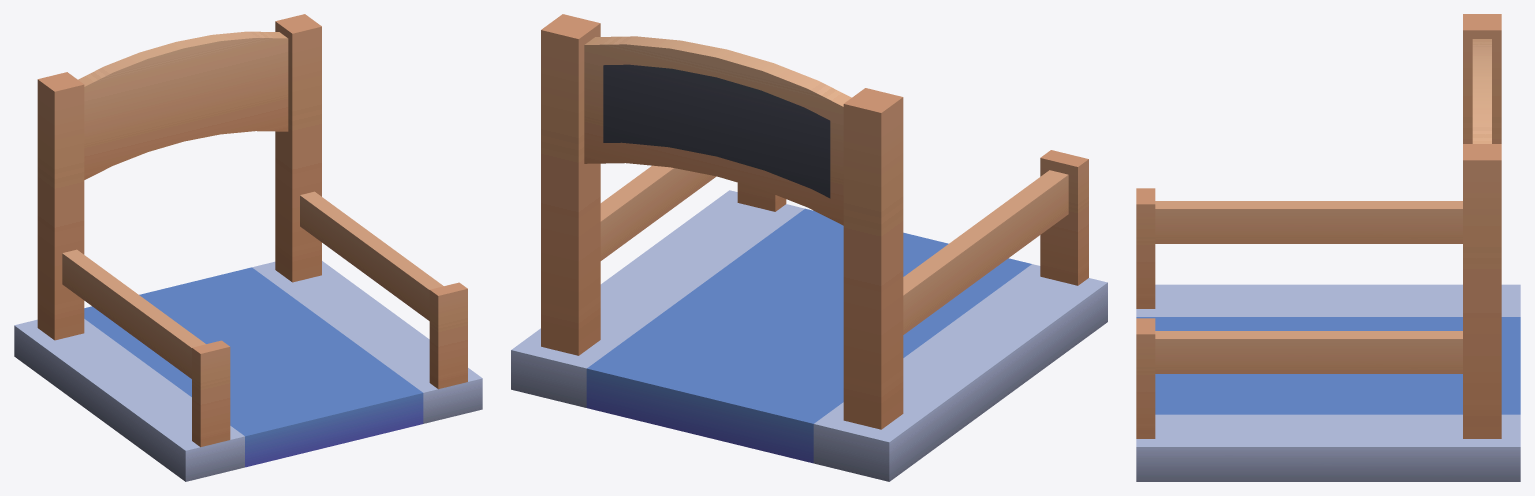
Rendered from queue-entrance.glb.
3 renders of one model, left to right at view 1: azimuth 30°, elevation 25°; view 2: azimuth 150°, elevation 25°; view 3: azimuth 270°, elevation 25°, orthographic. The views are drawn at different scales.
Visible parts, largest first — view 1: queue-entrance; view 2: queue-entrance; view 3: queue-entrance.
Part boxes in pixels (<box>): queue-entrance: <box>14,14,482,481</box>; queue-entrance: <box>511,14,1107,481</box>; queue-entrance: <box>1136,14,1520,481</box>.
Bounding box in the file's own units: 1 × 0.925 × 1.
1 material, 1 textured.
